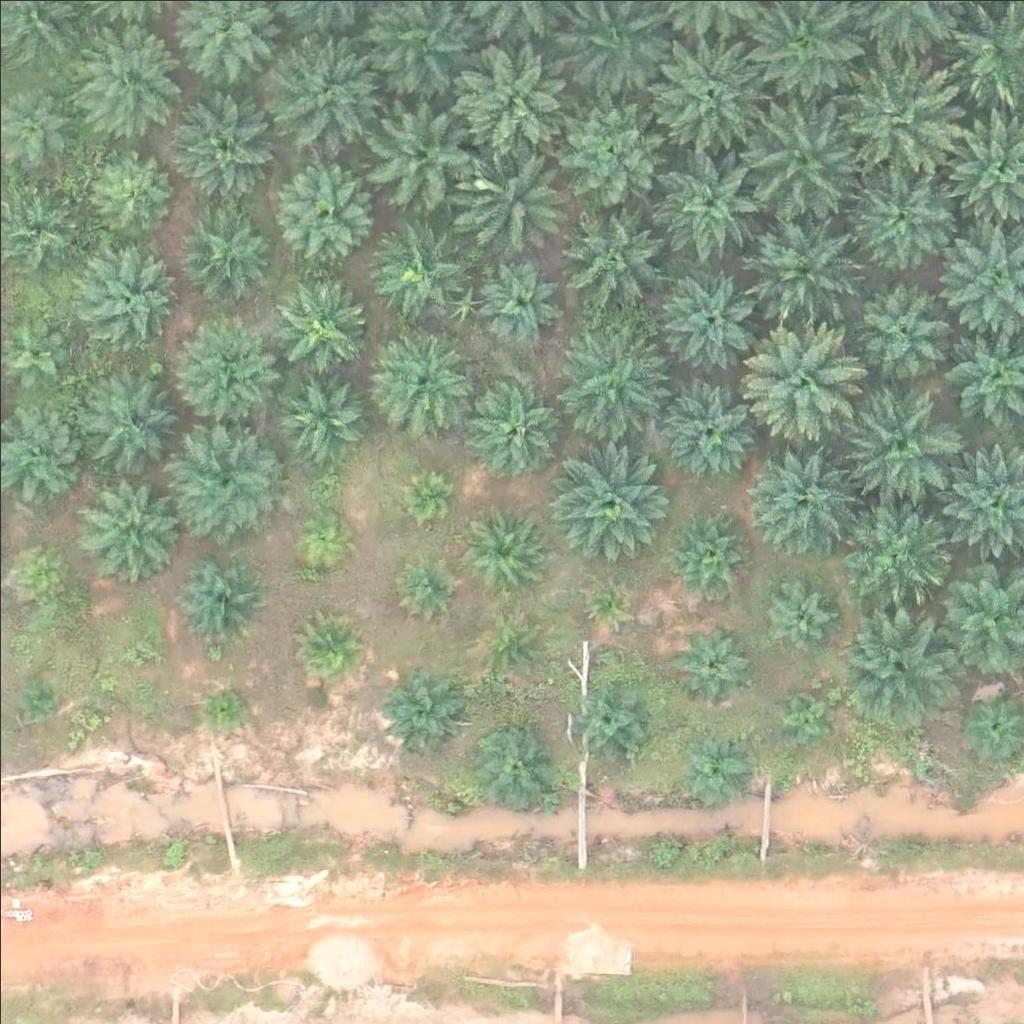Kelapa_Sawit: (551, 448, 664, 562), (660, 143, 773, 257), (750, 323, 863, 437), (369, 95, 482, 208), (647, 37, 760, 150), (837, 489, 950, 602), (845, 606, 958, 719), (848, 152, 961, 265), (839, 56, 952, 169), (172, 425, 284, 539), (847, 383, 959, 497), (73, 19, 185, 132), (265, 46, 377, 159), (560, 94, 672, 207), (552, 315, 664, 428), (753, 101, 865, 214), (748, 209, 860, 322), (742, 441, 854, 554), (77, 470, 177, 571), (176, 96, 276, 197), (179, 313, 279, 414), (273, 164, 373, 265), (464, 144, 564, 245), (464, 48, 564, 149), (656, 380, 756, 481), (76, 364, 176, 464), (83, 244, 183, 344), (272, 276, 372, 376), (371, 219, 471, 319), (375, 327, 475, 427), (464, 379, 564, 479), (567, 211, 667, 311), (660, 266, 760, 366), (850, 286, 950, 386), (176, 554, 264, 642), (183, 207, 271, 295), (278, 373, 366, 461), (570, 677, 658, 765), (475, 254, 563, 342), (664, 510, 752, 598), (87, 145, 174, 233), (470, 721, 557, 809), (461, 506, 548, 594), (386, 665, 461, 741), (677, 623, 752, 699), (687, 739, 750, 802), (298, 618, 361, 681), (767, 584, 829, 647), (476, 612, 538, 675), (301, 511, 351, 562), (399, 469, 449, 519), (404, 561, 454, 611), (777, 692, 827, 742), (21, 673, 59, 711), (208, 689, 245, 727), (32, 555, 69, 592), (593, 589, 630, 626), (131, 638, 156, 664)
